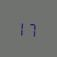one: (19, 19, 27, 36)
seven: (28, 20, 36, 37)
